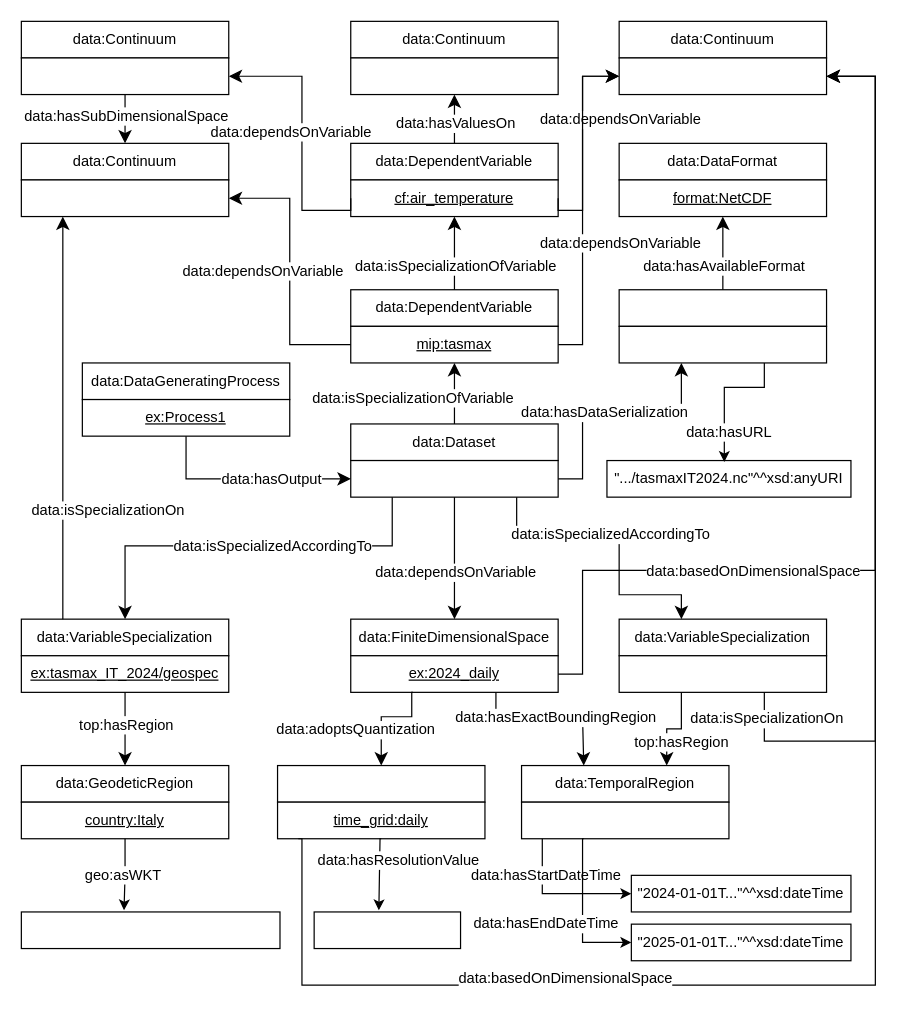
The diagram is 909 pixels wide and 1019 high, and some of its shapes have lost their labels. Here are the shapes that lost their labels. From the top down, the centre of each, then its label:
(x=124, y=76): dim:space
(x=454, y=76): dim:temperature
(x=722, y=76): dim:time
(x=124, y=198): dim:geodetic
(x=722, y=307): data:DataSource
(x=722, y=344): ex:DataSrc1
(x=454, y=478): ex:tasmax_IT_2024
(x=722, y=673): ex:tasmax_IT_2024/timespec
(x=380, y=783): data:SimpleRegularBinning
(x=624, y=820): year:2024
(x=150, y=930): "POLYGON((...))"^^<geo:wktLiteral>
(x=387, y=930): "P1D"^^xsd:duration
